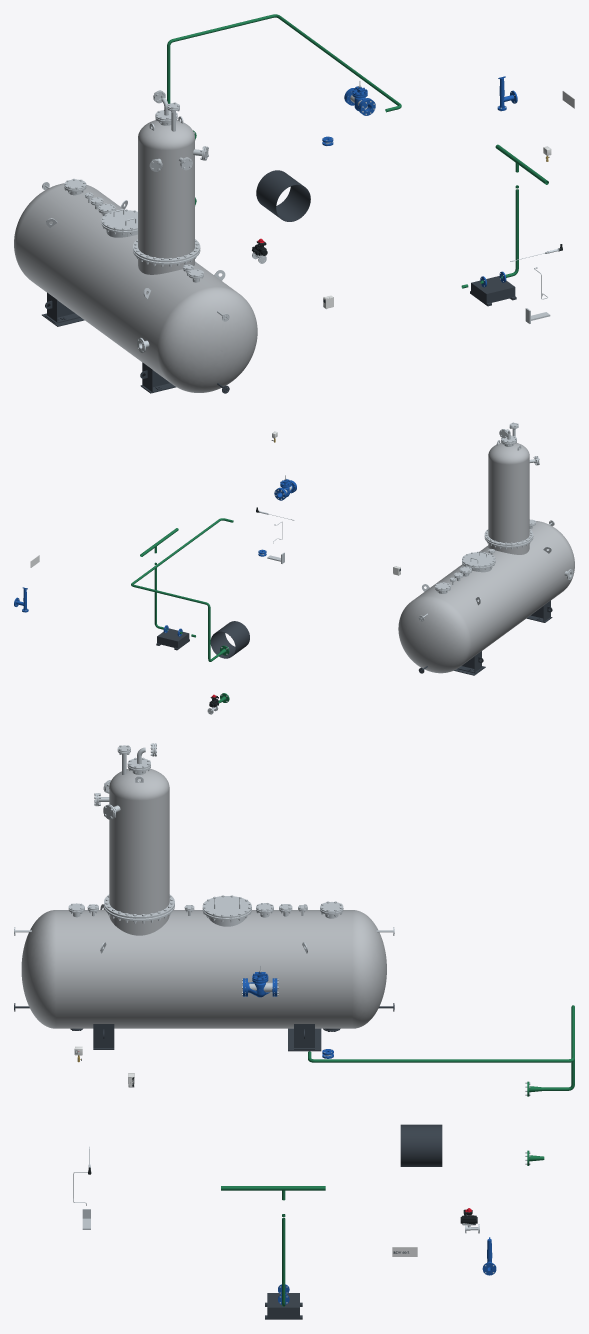
The picture shows the model from 3 angles, top to bottom: view 1: azimuth 30°, elevation 25°; view 2: azimuth 150°, elevation 25°; view 3: azimuth 270°, elevation 25°; orthographic projection. The views are drawn at different scales.
Visible parts, largest first — view 1: deaerator CAD solid 56, deaerator CAD solid 257, flue_spacer / dark, from_economizer / green, pump_branch_2 / dark, deaerator CAD solid 408; view 2: deaerator CAD solid 56, deaerator CAD solid 257, flue_spacer / dark, from_economizer / green, pump_branch_2 / dark, deaerator CAD solid 408; view 3: deaerator CAD solid 56, deaerator CAD solid 257, flue_spacer / dark, from_economizer / green, pump_branch_2 / dark, deaerator CAD solid 408.
Part boxes in pixels (x1,y1,x2,y2): deaerator CAD solid 56: [14, 183, 257, 392]; deaerator CAD solid 257: [138, 120, 194, 258]; flue_spacer / dark: [256, 170, 310, 221]; from_economizer / green: [167, 14, 401, 112]; pump_branch_2 / dark: [470, 276, 516, 306]; deaerator CAD solid 408: [101, 210, 137, 230]; deaerator CAD solid 56: [398, 521, 574, 673]; deaerator CAD solid 257: [488, 442, 529, 543]; flue_spacer / dark: [210, 621, 249, 658]; from_economizer / green: [131, 518, 233, 661]; pump_branch_2 / dark: [156, 628, 189, 650]; deaerator CAD solid 408: [462, 552, 495, 567]; deaerator CAD solid 56: [21, 910, 386, 1028]; deaerator CAD solid 257: [109, 768, 169, 914]; flue_spacer / dark: [400, 1124, 442, 1166]; from_economizer / green: [308, 1005, 574, 1090]; pump_branch_2 / dark: [265, 1293, 302, 1319]; deaerator CAD solid 408: [202, 896, 251, 917].
Bounding box in the file's own units: 8.5 × 4.82 × 6.71.
